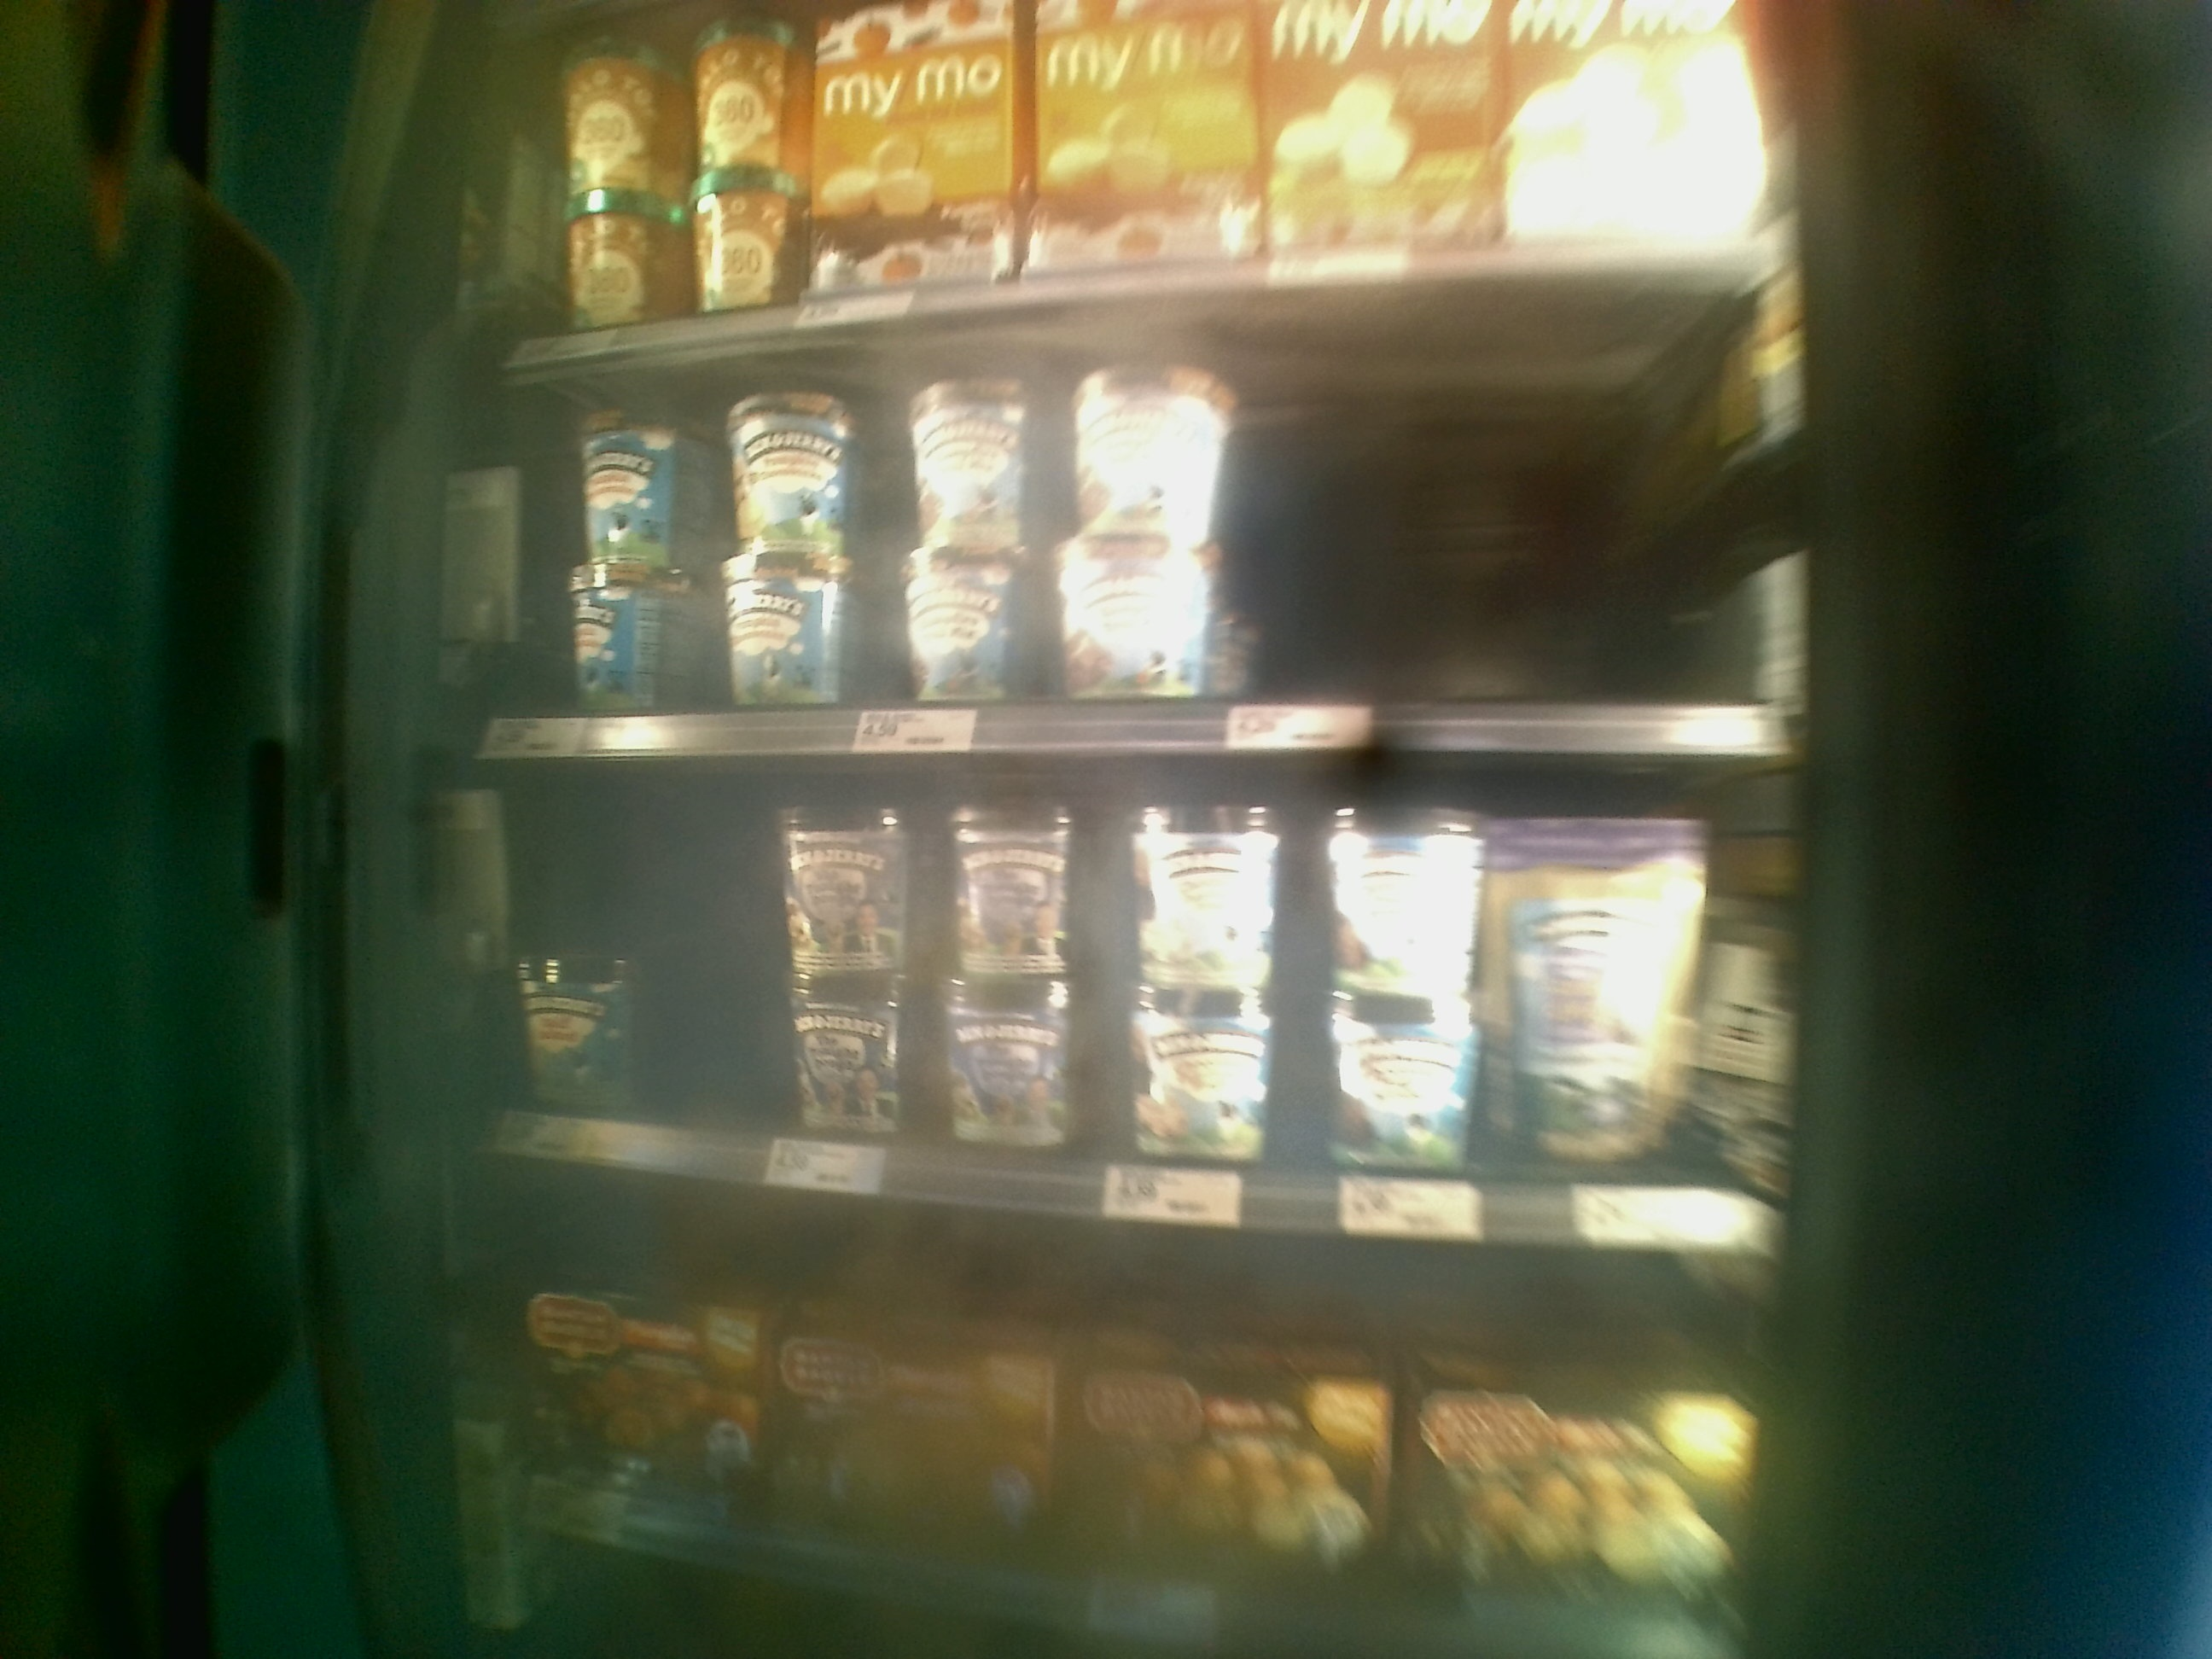shelf: (474, 721, 1740, 1215), (498, 343, 1775, 737)
